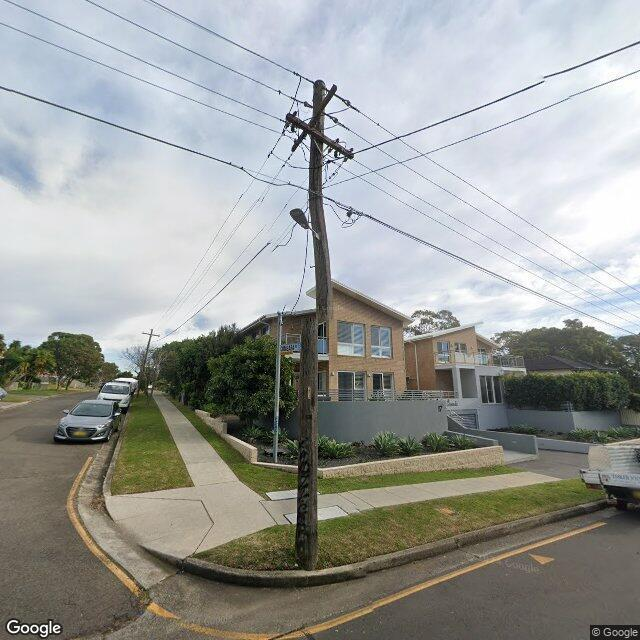crossarm: (290, 84, 338, 152), (286, 113, 355, 160), (142, 332, 159, 337)
streetlight: (290, 208, 320, 240)
timber-pole: (295, 79, 330, 571), (136, 329, 153, 398)
